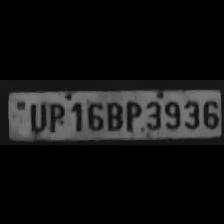1: (66, 98, 84, 132)
3: (143, 97, 161, 130), (182, 96, 198, 130)
6: (84, 98, 104, 132), (200, 96, 220, 128)
9: (163, 97, 181, 129)
B: (104, 97, 122, 131)
P: (46, 98, 66, 132), (123, 97, 141, 131)
U: (26, 98, 46, 132)
